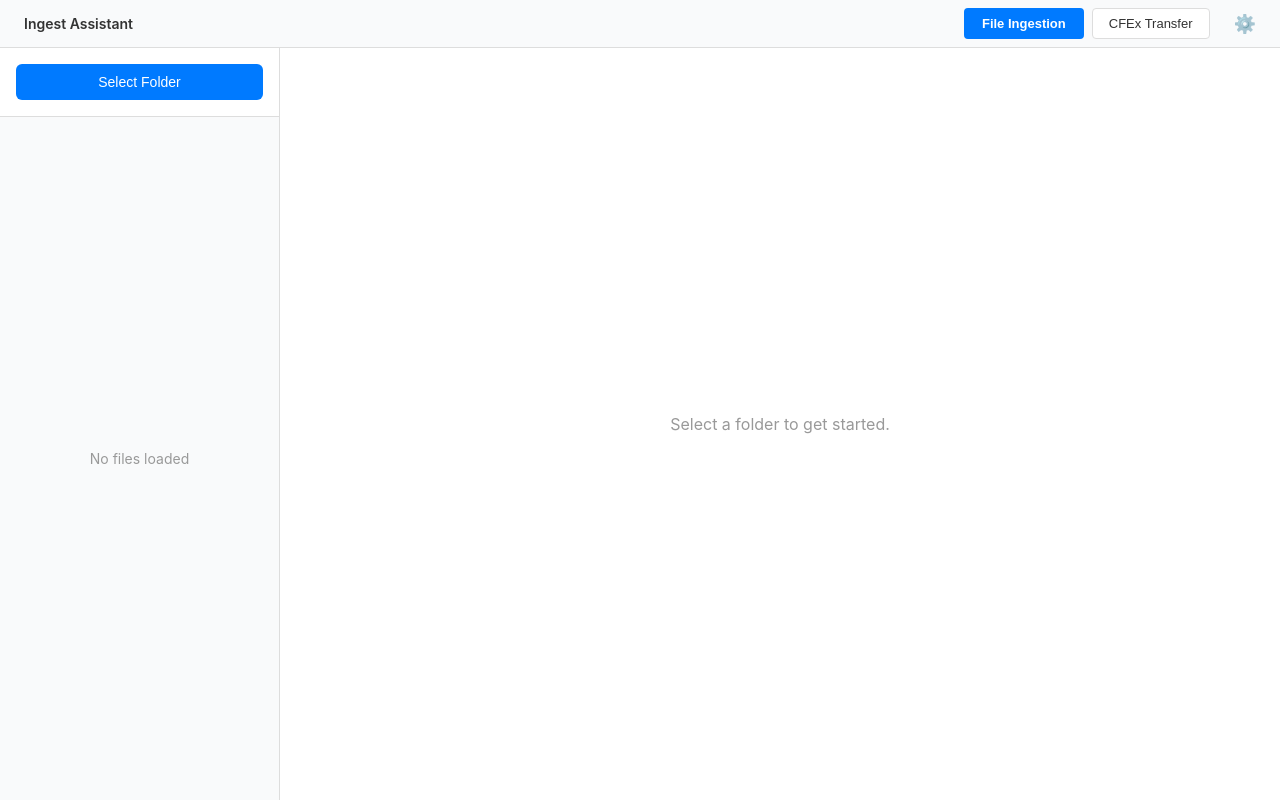
Test: Keyboard Shortcuts › Cmd+K - Command palette shortcut › should open command palette when Cmd+K is pressed
Click the button "Select Folder" at (140, 82), box [16,64,263,100]
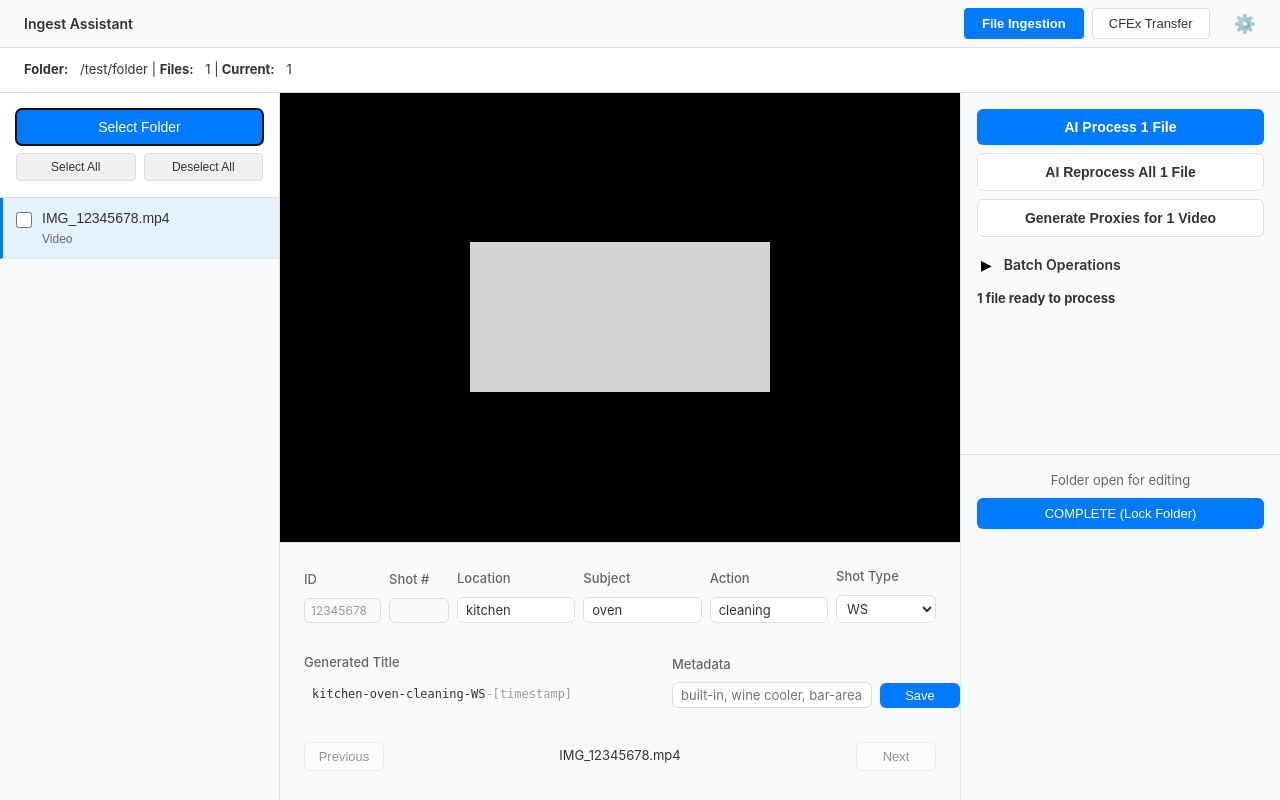
Expected: the field with placeholder "kitchen" below "Location" is shown, [457,596,575,622]
Press Cmd+K
Type keys "{Meta>}k{/Meta}"
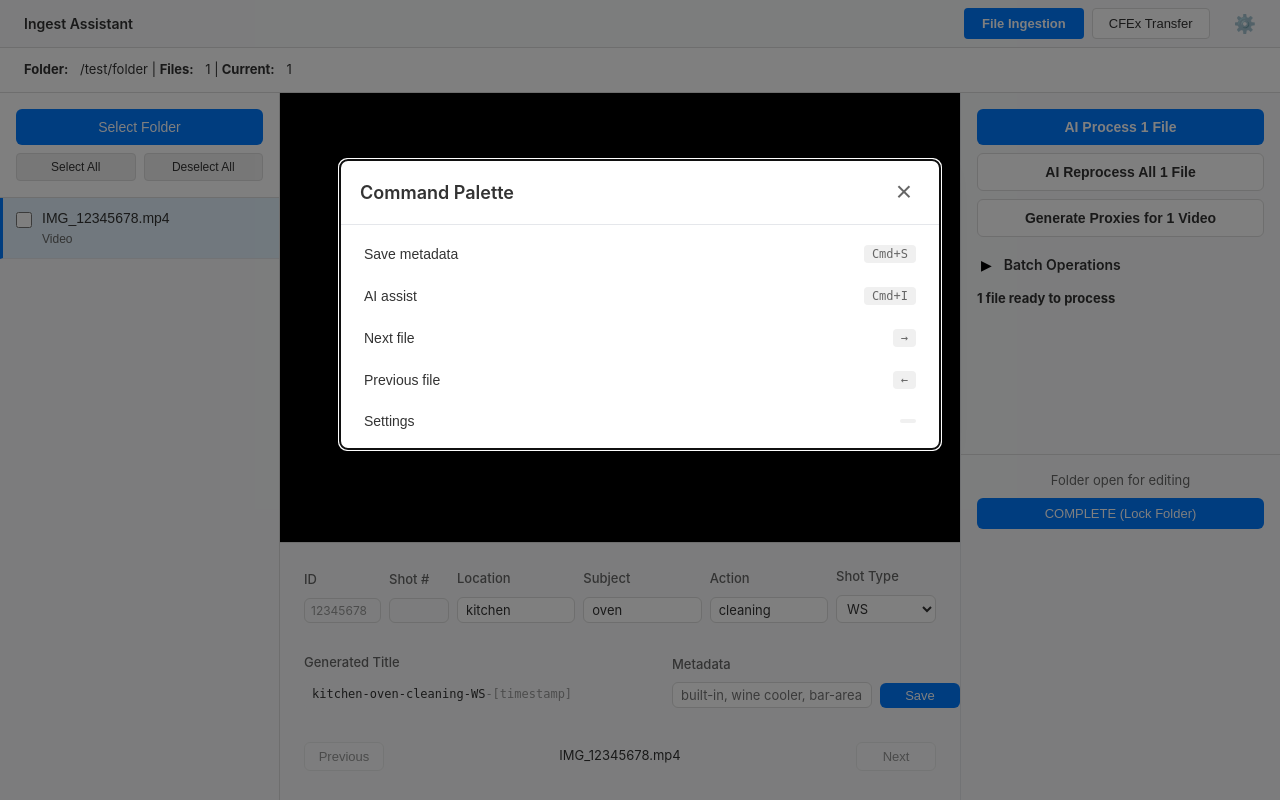
Expected: the dialog "Command Palette" is shown, [340,160,940,449]
